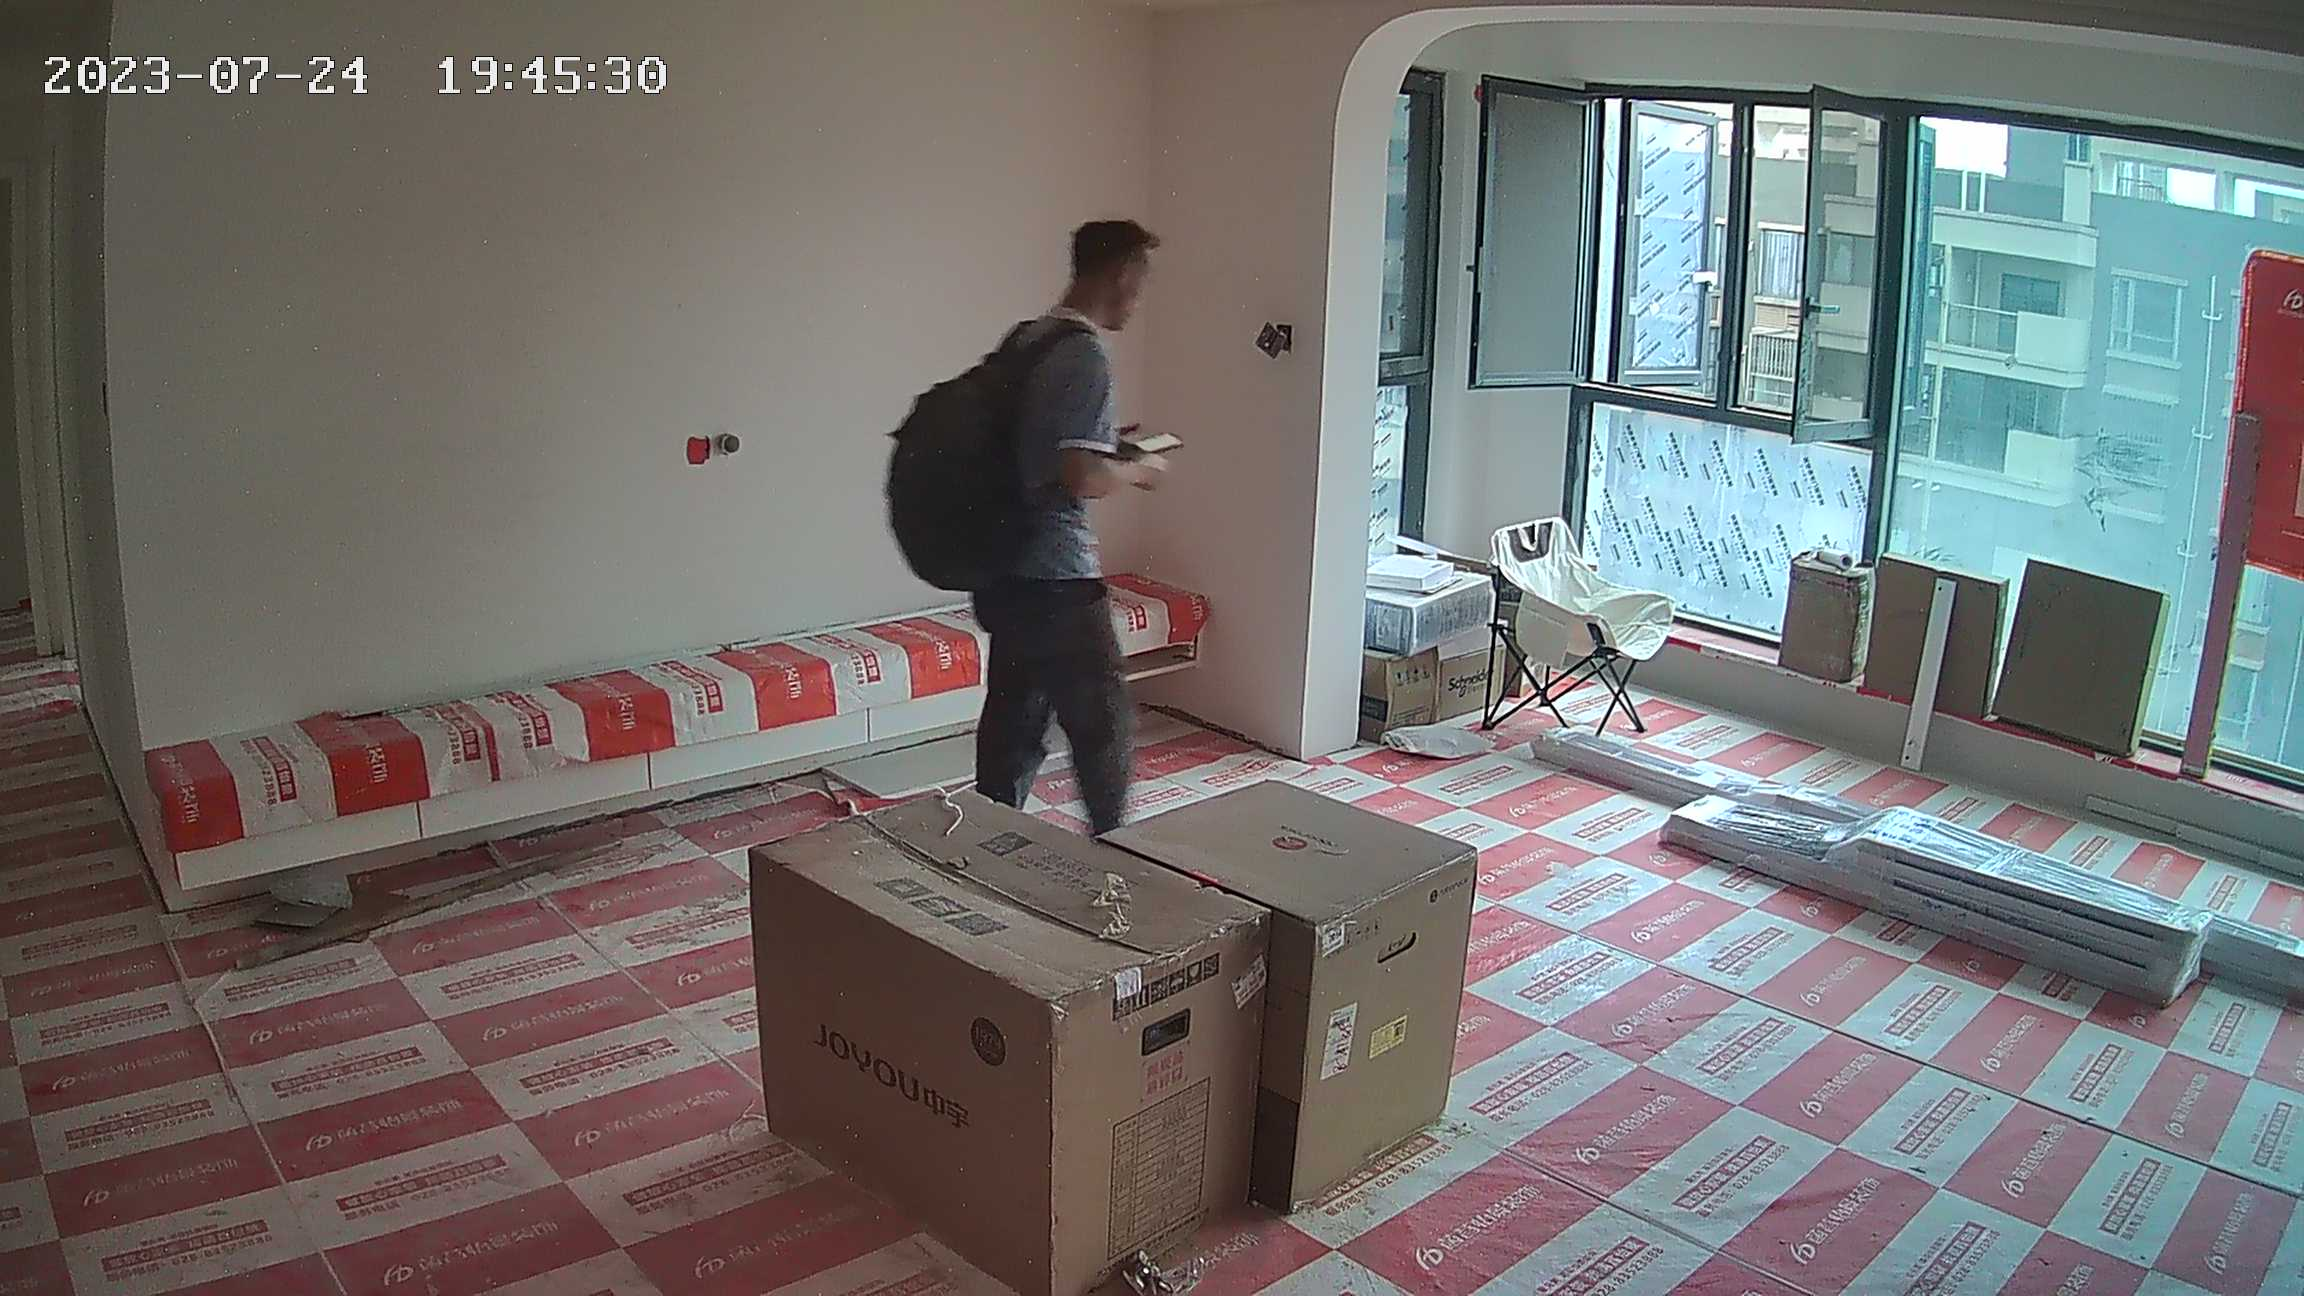people: (979, 216, 1172, 835)
window: (1579, 97, 2299, 786)
